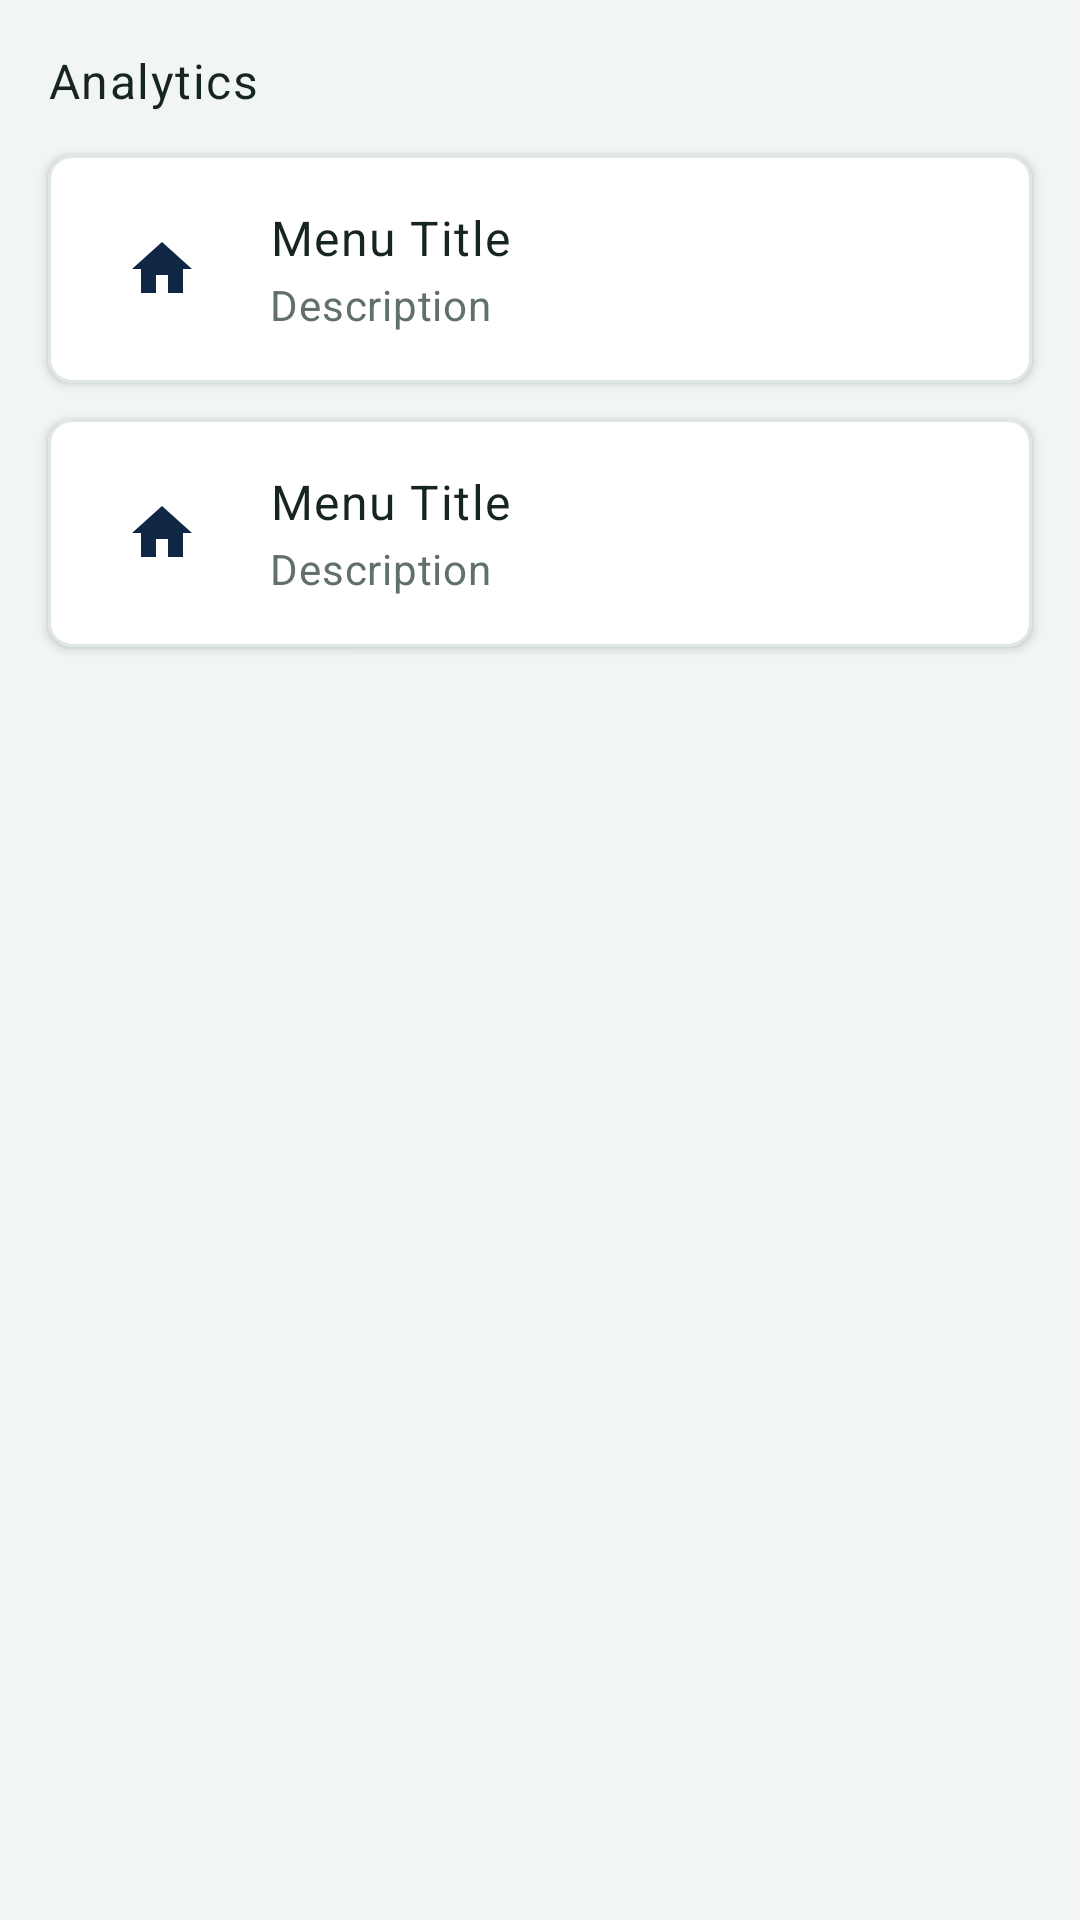

Locate icon controls on the screen. Image size 1080×1920, boxes as {"left": x1, "top": y1, "right": x2, "bottom": y2}.
home: {"left": 132, "top": 242, "right": 192, "bottom": 293}, {"left": 132, "top": 506, "right": 192, "bottom": 557}
